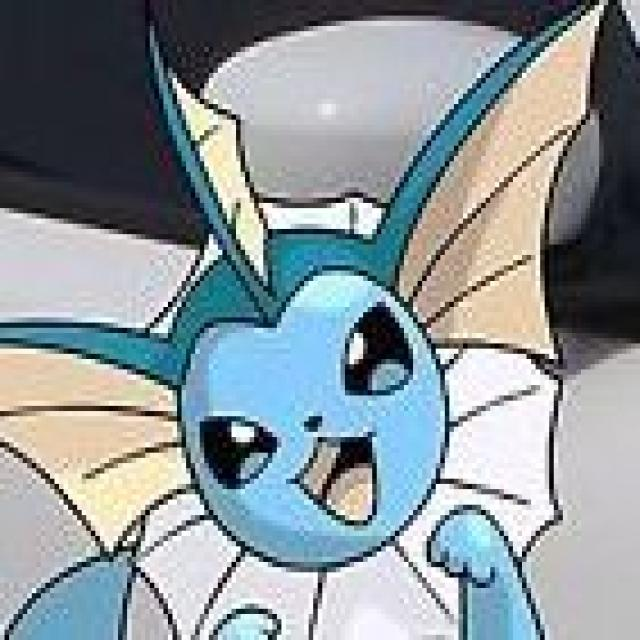Vaporeon: (67, 134, 559, 640)
